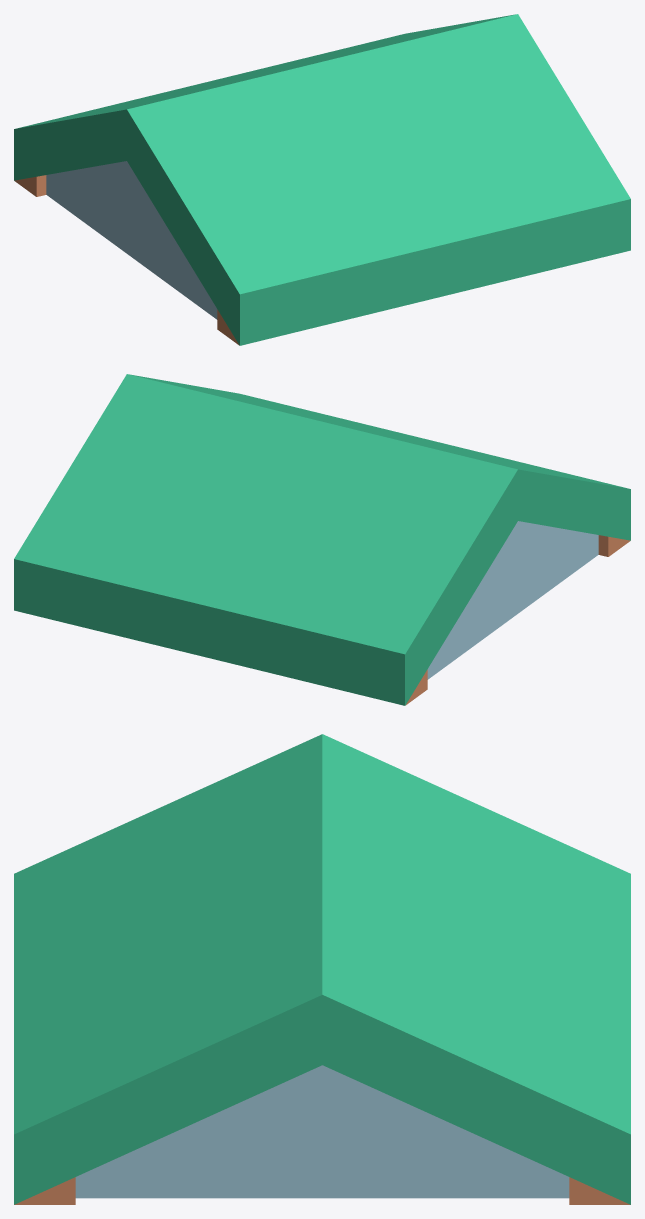
The model's file is roofGableTop.fbx.
The picture shows the model from 3 angles, top to bottom: view 1: azimuth 30°, elevation 25°; view 2: azimuth 150°, elevation 25°; view 3: azimuth 270°, elevation 25°; orthographic projection. The views are drawn at different scales.
Visible parts, largest first — view 1: roofGableTop; view 2: roofGableTop; view 3: roofGableTop.
Boxes of the visible parts, x1,y1,x2,y2 form: roofGableTop: (14,14,630,345); roofGableTop: (14,374,630,705); roofGableTop: (14,734,630,1204).
Size of the model in its own units: 10 by 3.76 by 10.
